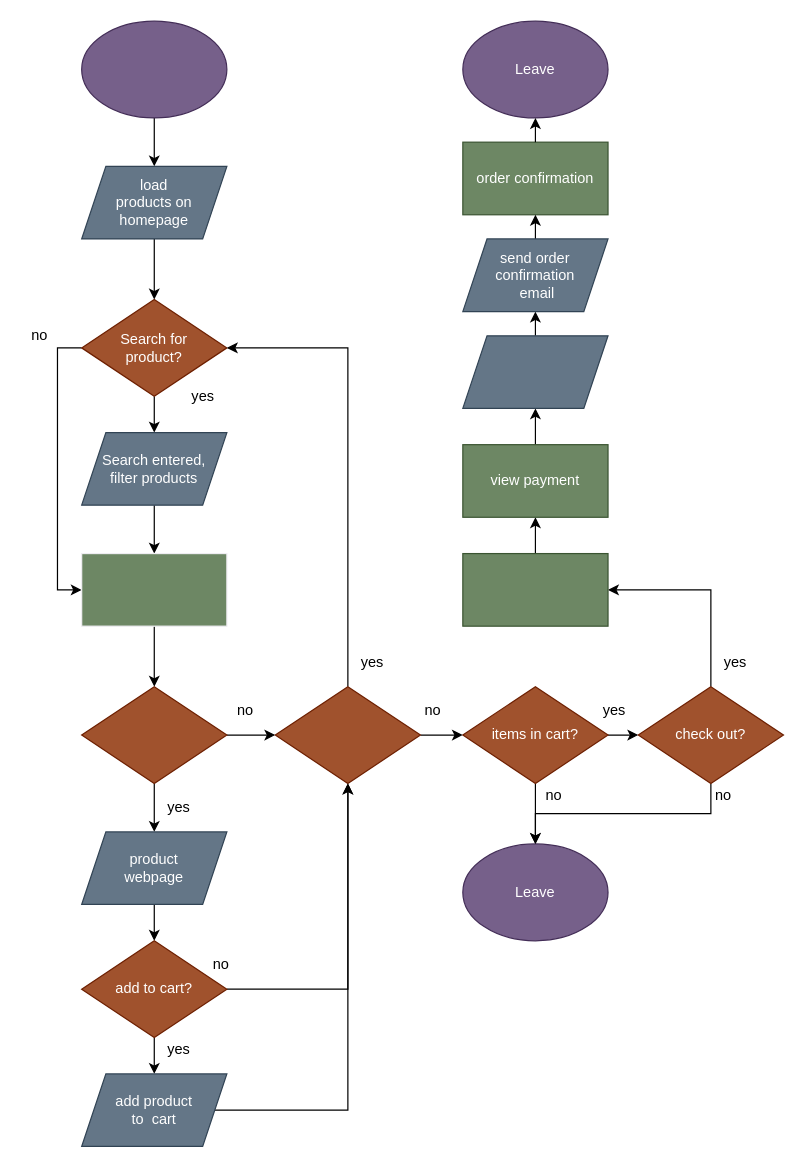
The diagram is 805 pixels wide and 1168 high, and some of its shapes have lost their labels. Here are the shapes that lost their labels. From the top down, the centre of each, then its label:
the point at 153,69: Start
the point at 535,371: user enters payment info
the point at 153,589: browse loaded products
the point at 535,589: View cart
the point at 153,734: view product?
the point at 347,734: keep shopping?
